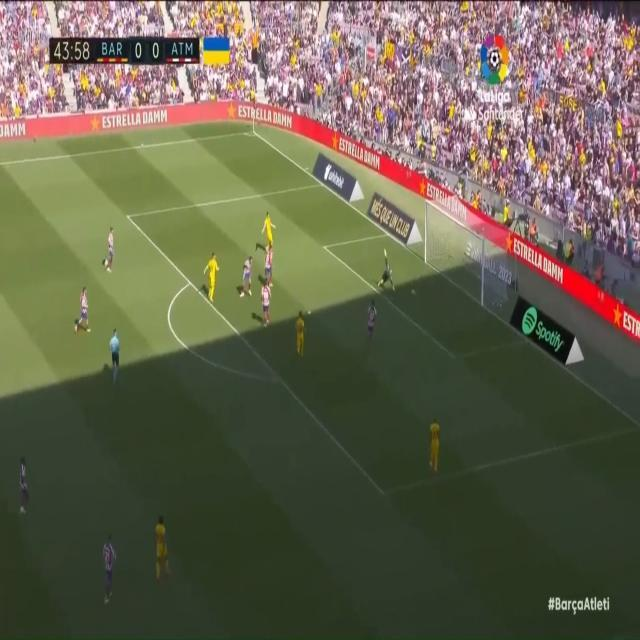ball: (405, 280, 419, 304)
goalkeeper: (378, 242, 397, 298)
player: (150, 505, 174, 582), (426, 407, 450, 470), (198, 249, 222, 307), (256, 275, 277, 336), (103, 532, 117, 606), (15, 460, 33, 515), (363, 296, 381, 350), (259, 207, 278, 256), (294, 311, 310, 367), (75, 279, 91, 335), (103, 223, 116, 281), (240, 252, 254, 301), (264, 244, 274, 289)
referee: (105, 329, 121, 390)
